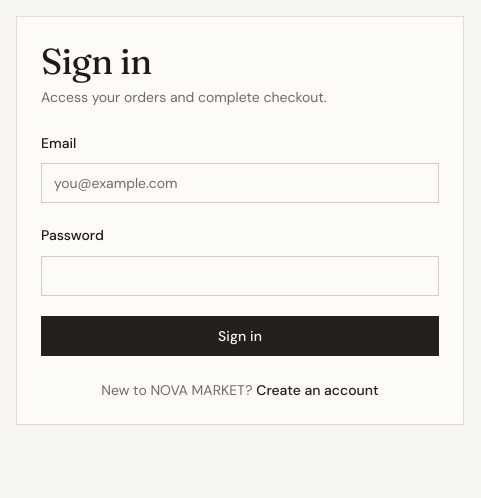
Test case: LoginPage › blocks submission and shows messages when fields are empty
Click the button "Sign in". click: (240, 336)
box: [41, 316, 439, 356]
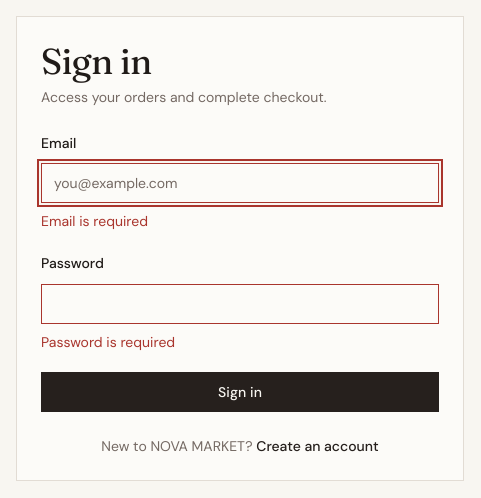
expect the text "Email is required" is shown: met, box [41, 212, 148, 230]
expect the text "Password is required" is shown: met, box [41, 333, 175, 351]
